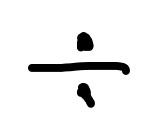div: (27, 31, 131, 108)
